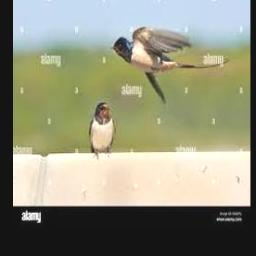Swallow: (112, 27, 229, 104), (89, 102, 115, 157)
